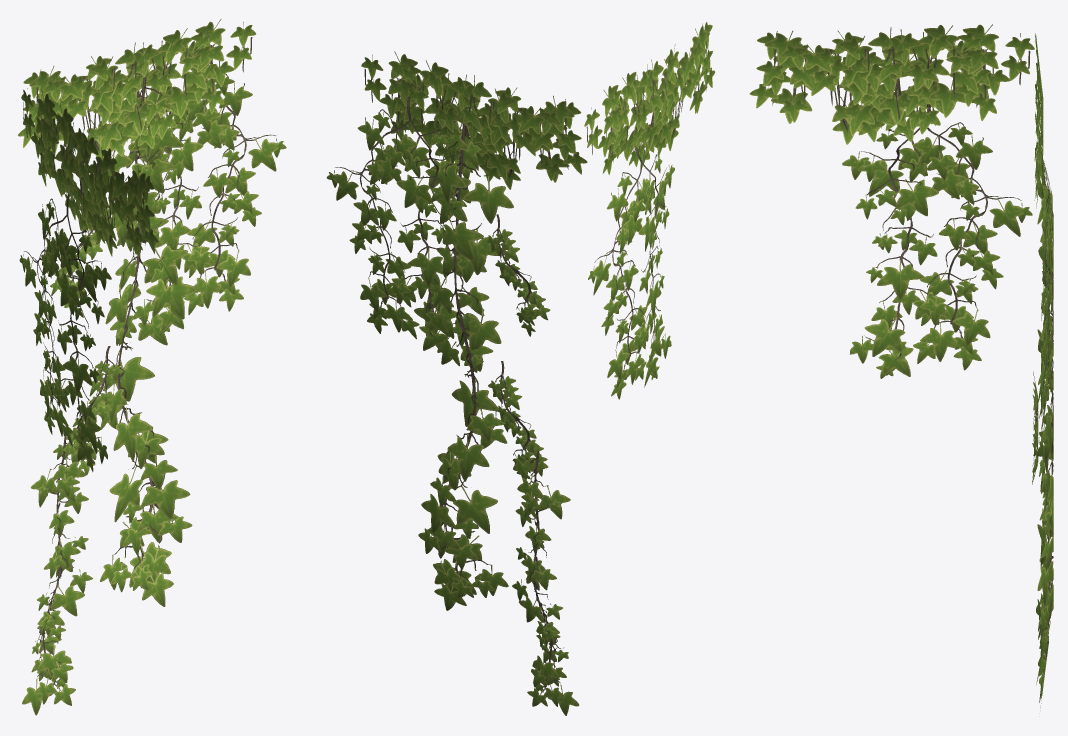
File: SM_ivy_angle.fbx
3 views of the same model, side by side, from view 1: azimuth 30°, elevation 25°; view 2: azimuth 150°, elevation 25°; view 3: azimuth 270°, elevation 25° (orthographic). The views are drawn at different scales.
Parts seen in each view (by area): view 1: SM_ivy_angle; view 2: SM_ivy_angle; view 3: SM_ivy_angle.
Part boxes in pixels (left/top/right/bottom): SM_ivy_angle: left=18, top=19, right=286, bottom=715; SM_ivy_angle: left=326, top=22, right=714, bottom=715; SM_ivy_angle: left=749, top=24, right=1053, bottom=708.
Bounding box in the file's own units: 71.54 × 161 × 64.33.
